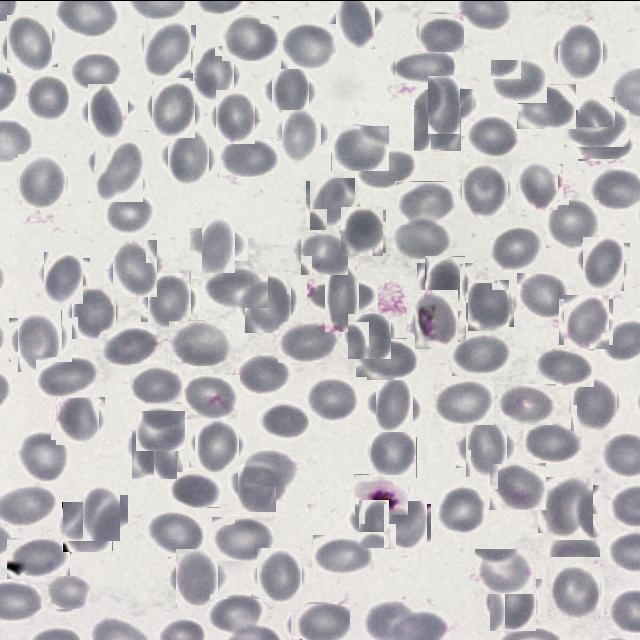red blood cell: (542, 480, 597, 536), (90, 144, 146, 198), (13, 313, 68, 367), (168, 319, 232, 365), (242, 274, 296, 328), (432, 378, 494, 424), (211, 515, 274, 560), (549, 564, 602, 617), (16, 154, 68, 208), (141, 22, 194, 74), (316, 270, 369, 322), (3, 17, 55, 70), (17, 431, 71, 482), (554, 25, 606, 77), (487, 576, 539, 628), (204, 265, 268, 307), (391, 215, 452, 259), (489, 462, 546, 509), (221, 14, 279, 60), (331, 124, 389, 170), (517, 83, 576, 128), (475, 548, 534, 593), (129, 424, 180, 476), (545, 198, 599, 247), (355, 337, 418, 379), (461, 421, 512, 472), (571, 102, 622, 153), (368, 424, 418, 476), (147, 510, 206, 554), (395, 180, 454, 224), (7, 537, 70, 578), (280, 22, 336, 68), (182, 374, 240, 418), (460, 163, 510, 214), (172, 552, 223, 602), (148, 84, 199, 134), (253, 550, 304, 600), (569, 378, 620, 428), (435, 484, 488, 532), (36, 356, 98, 397), (517, 272, 572, 318), (278, 320, 338, 362), (357, 146, 417, 188), (192, 419, 242, 469), (144, 274, 194, 324), (110, 242, 160, 292), (62, 500, 112, 550), (561, 296, 611, 346), (312, 533, 374, 573), (452, 333, 511, 375), (210, 593, 266, 637), (490, 59, 547, 102), (308, 178, 357, 228), (218, 136, 279, 176), (100, 326, 161, 366), (523, 421, 582, 462), (70, 287, 119, 336), (498, 383, 556, 424), (308, 376, 362, 420), (490, 226, 544, 270), (546, 512, 600, 556), (189, 49, 238, 97), (54, 393, 102, 442), (536, 346, 594, 386), (24, 72, 72, 120), (579, 239, 627, 287), (84, 86, 132, 134), (233, 460, 281, 508), (290, 602, 350, 640), (165, 133, 212, 181), (370, 379, 418, 426), (422, 258, 469, 306), (237, 353, 291, 394), (414, 103, 461, 150), (212, 92, 258, 140), (68, 50, 123, 90), (467, 114, 519, 156), (104, 192, 156, 234), (40, 253, 86, 300), (514, 160, 560, 207), (130, 362, 182, 403), (268, 68, 314, 114), (466, 282, 512, 328), (338, 208, 384, 254), (78, 490, 124, 536), (384, 501, 429, 547), (196, 221, 242, 266), (280, 111, 324, 158), (331, 0, 379, 43), (422, 82, 468, 126), (347, 314, 392, 358), (301, 232, 348, 274), (168, 470, 221, 507), (136, 410, 185, 450), (244, 450, 298, 486), (394, 50, 454, 82), (418, 12, 464, 52), (261, 402, 309, 440), (578, 126, 632, 158), (354, 504, 394, 544), (45, 576, 90, 610)
trophozoite: (411, 293, 462, 345), (354, 473, 408, 514)
